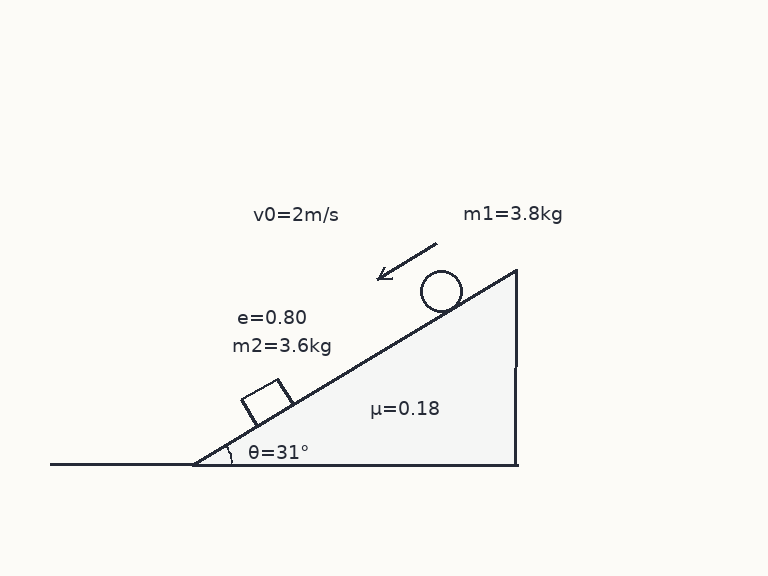ball: (418, 268, 464, 314)
block: (239, 376, 295, 428)
ramp: (190, 268, 519, 467)
